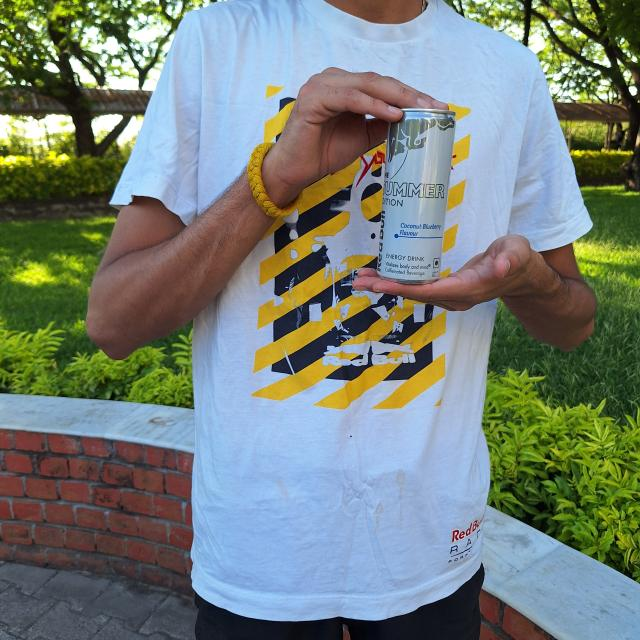Redbull Summer Edition: (377, 107, 451, 280)
